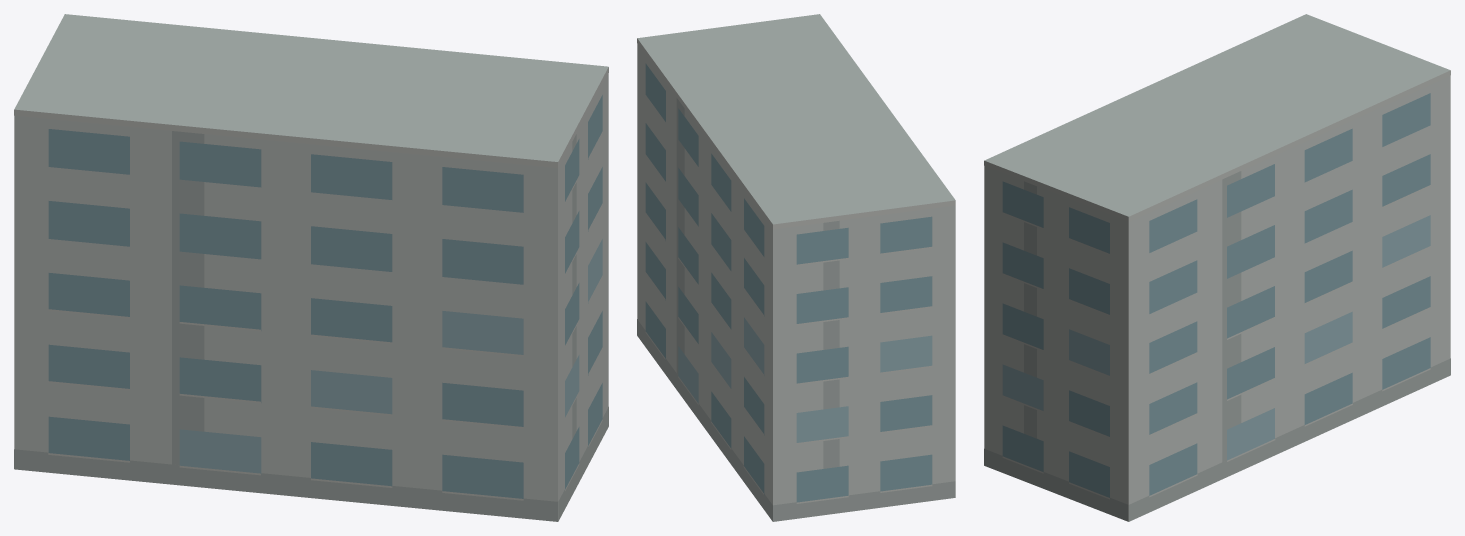
File: survey-upis-32692828.glb
3 renders of one model, left to right at view 1: azimuth 30°, elevation 25°; view 2: azimuth 150°, elevation 25°; view 3: azimuth 270°, elevation 25°, orthographic. The views are drawn at different scales.
Visible parts, largest first — view 1: survey-upis-32692828.tmp; view 2: survey-upis-32692828.tmp; view 3: survey-upis-32692828.tmp.
Boxes of the visible parts, bbox=[...] form: survey-upis-32692828.tmp: bbox=[14, 14, 608, 521]; survey-upis-32692828.tmp: bbox=[637, 14, 955, 521]; survey-upis-32692828.tmp: bbox=[984, 14, 1450, 521].
Size of the model in its own units: 20.39 by 14.3 by 19.82.
